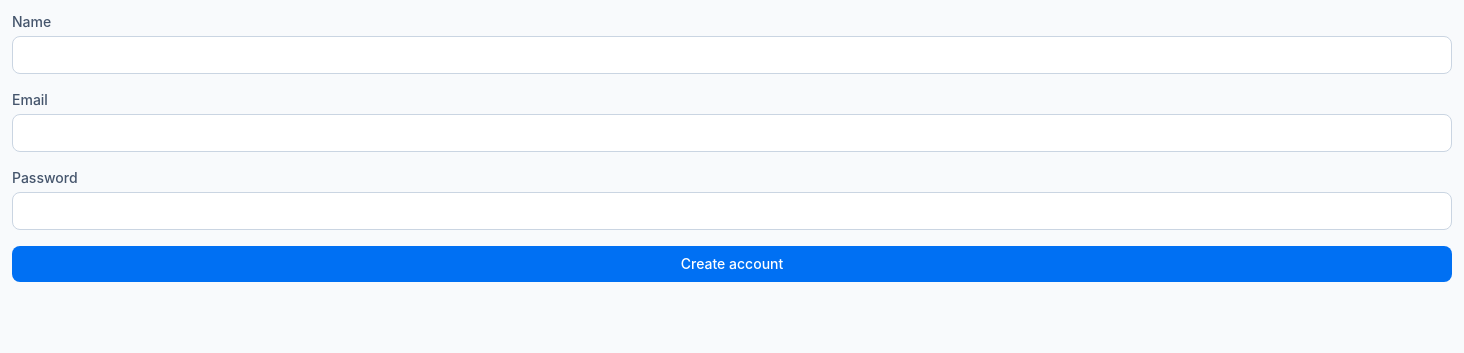
Test: RegisterForm › shows one readable message when the API is down
Type " Olena " into the field labelled "Name" at (732, 55), box [12, 36, 1452, 74]
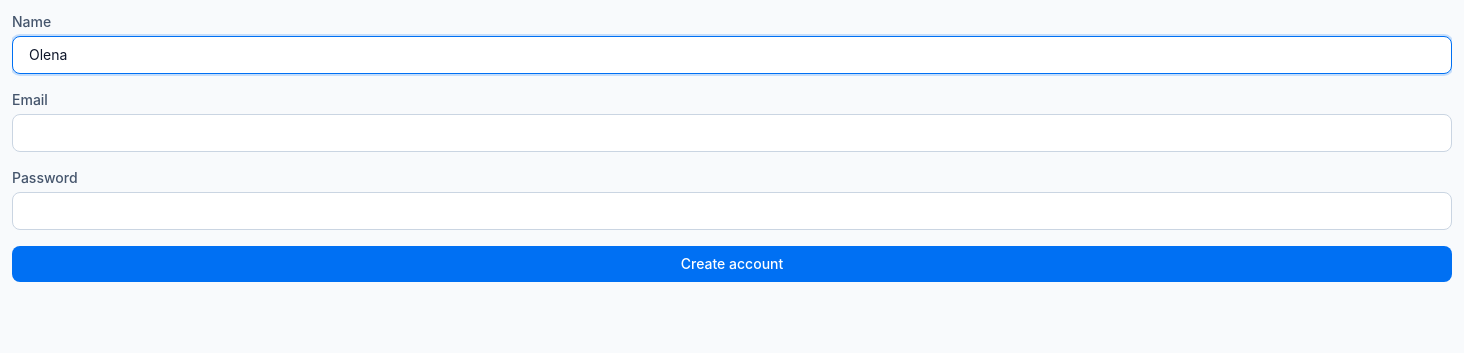
Type " New.Client@Example.com " into the field labelled "Email" at (732, 133), box [12, 114, 1452, 152]
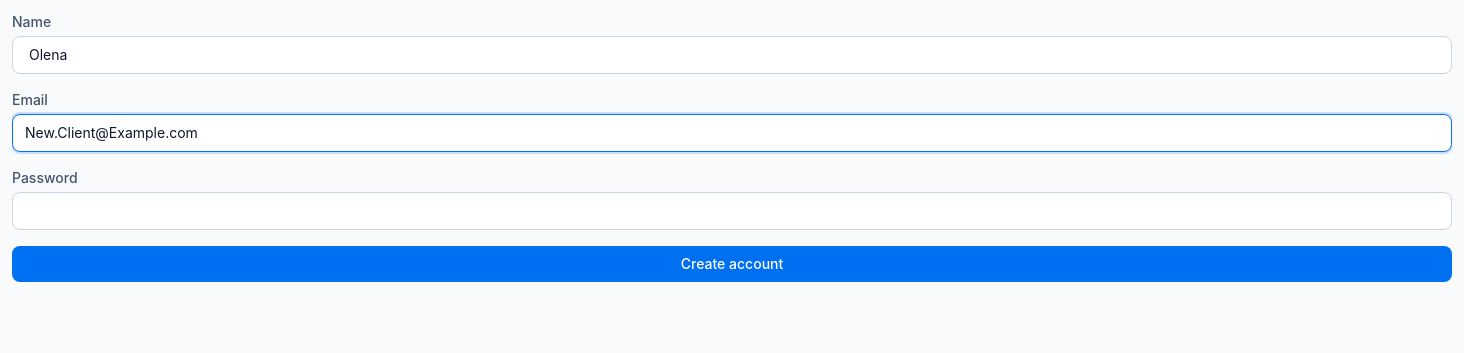
Type "password123" into the password field labelled "Password" at (732, 211), box [12, 192, 1452, 230]
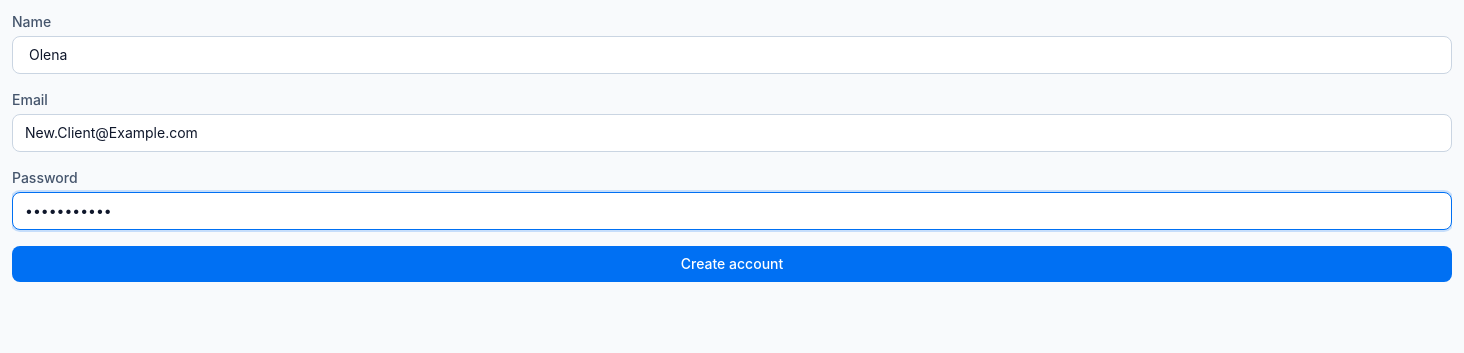
Click the button "Create account" at (732, 264), box [12, 246, 1452, 282]
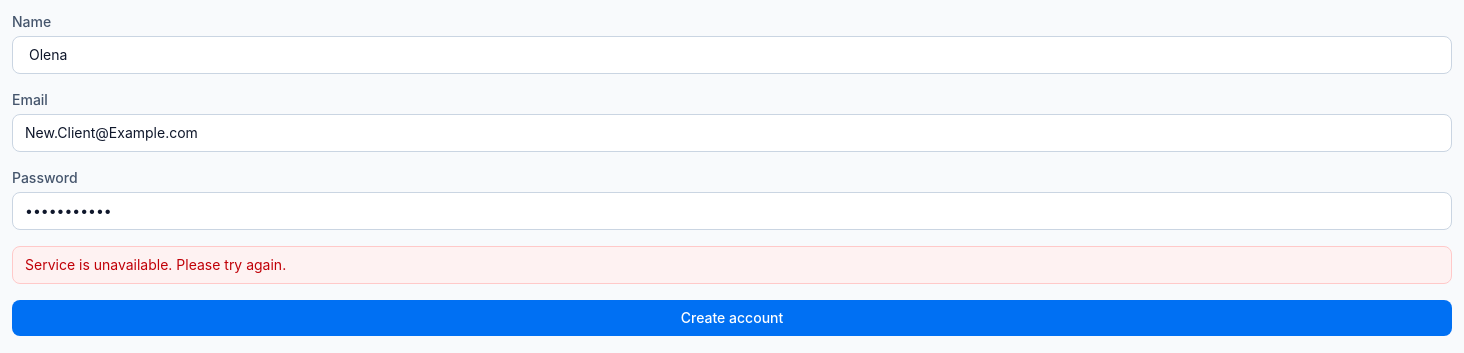
Expected: the button "Create account" is enabled, [12, 300, 1452, 336]
Expected: the message reads "Service is unavailable. Please try again.", [25, 256, 286, 273]
